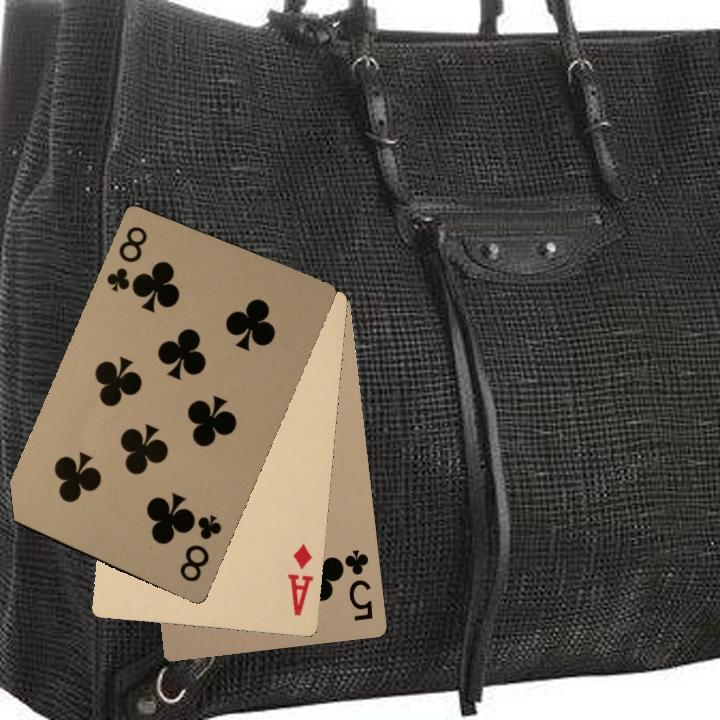5c: (335, 545, 375, 623)
8c: (175, 510, 225, 585), (102, 222, 150, 296)
Ad: (283, 541, 316, 618)
